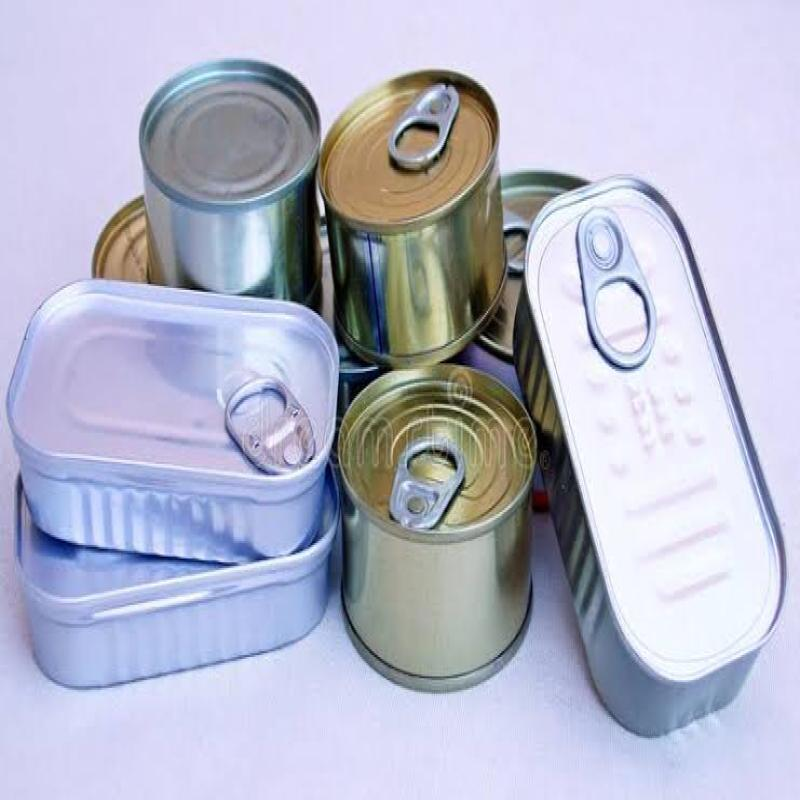aluminum: (513, 174, 787, 742), (6, 278, 340, 564), (12, 446, 340, 690), (337, 363, 539, 696), (317, 70, 507, 371), (138, 58, 322, 311)
